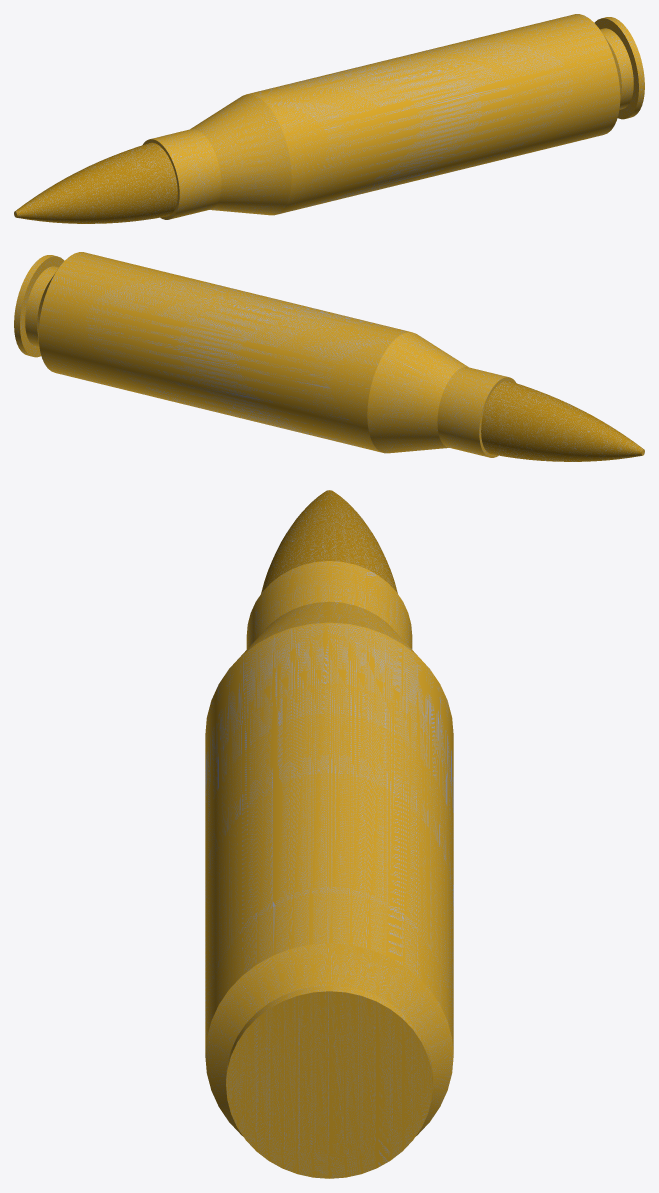
File: Bullet.dae
The picture shows the model from 3 angles, top to bottom: view 1: azimuth 30°, elevation 25°; view 2: azimuth 150°, elevation 25°; view 3: azimuth 270°, elevation 25°; orthographic projection. The views are drawn at different scales.
Parts seen in each view (by area): view 1: SketchUp (×3); view 2: SketchUp (×3); view 3: SketchUp (×3).
Part boxes in pixels (box(x1,y1,x2,y2)): SketchUp (×3): box(15, 14, 644, 223); SketchUp (×3): box(14, 252, 643, 461); SketchUp (×3): box(205, 490, 453, 1178).
Bounding box in the file's own units: 6.31 × 1.12 × 1.12.
